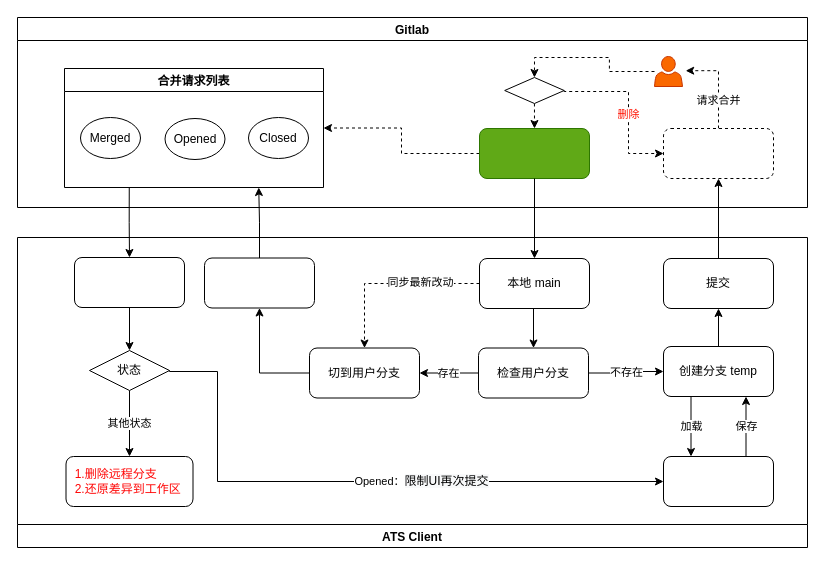
The diagram is 825 pixels wide and 565 high, and some of its shapes have lost their labels. Here are the shapes that lost their labels. From the top down, the box of each, then its label:
(504, 76, 564, 104): 合并
(478, 128, 590, 178): main
(662, 128, 774, 178): 临时分支 temp
(74, 256, 184, 308): 同名合并请求
(204, 257, 314, 308): 查询合并请求
(662, 456, 774, 506): UI
